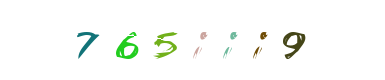5: (128, 0, 208, 80)
6: (87, 0, 167, 80)
7: (47, 0, 127, 80)
9: (249, 0, 329, 80)
I: (151, 0, 231, 80), (152, 0, 232, 80), (161, 0, 241, 80)
